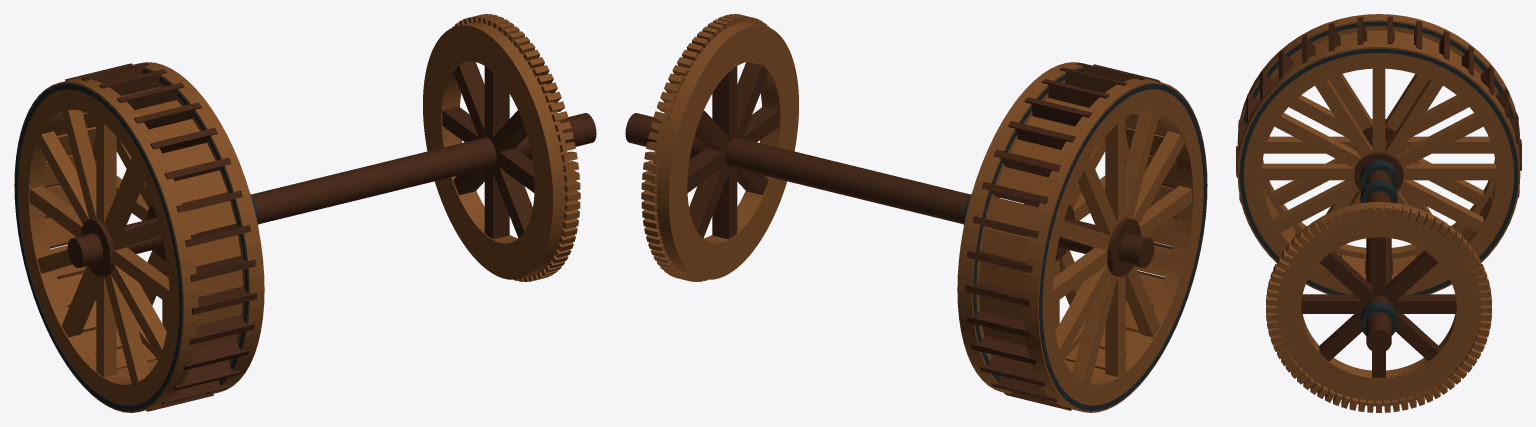
Rendered from drive.obj.
3 views of the same model, side by side, from view 1: azimuth 30°, elevation 25°; view 2: azimuth 150°, elevation 25°; view 3: azimuth 270°, elevation 25° (orthographic). The views are drawn at different scales.
Visible parts, largest first — view 1: drive_wood, drive_timber, drive_iron; view 2: drive_wood, drive_timber, drive_iron; view 3: drive_wood, drive_timber, drive_iron.
Part boxes in pixels (x1,y1,x2,y2): drive_wood: [14, 14, 580, 412]; drive_timber: [44, 62, 596, 411]; drive_iron: [15, 69, 532, 410]; drive_wood: [641, 14, 1207, 412]; drive_timber: [625, 62, 1177, 410]; drive_iron: [689, 68, 1206, 410]; drive_wood: [1237, 14, 1520, 412]; drive_timber: [1236, 16, 1521, 377]; drive_iron: [1239, 21, 1518, 335].
Size of the model in its own units: 5.6 by 3.22 by 3.24.
